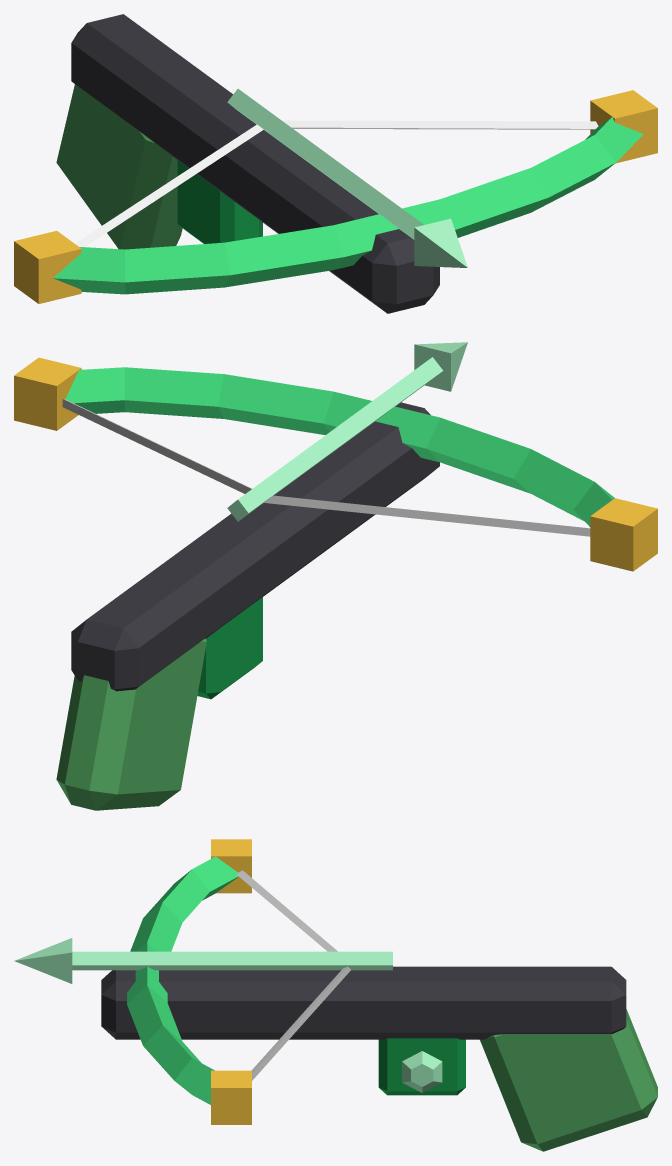
File: EmeraldCrossbow.fbx
3 views of the same model, one above another, from view 1: azimuth 30°, elevation 25°; view 2: azimuth 150°, elevation 25°; view 3: azimuth 270°, elevation 25° (orthographic). The views are drawn at different scales.
Visible parts, largest first — view 1: EmeraldCrossbow; view 2: EmeraldCrossbow; view 3: EmeraldCrossbow.
Boxes of the visible parts, x1,y1,x2,y2 form: EmeraldCrossbow: [14, 14, 657, 313]; EmeraldCrossbow: [14, 342, 657, 810]; EmeraldCrossbow: [14, 839, 657, 1151].
Size of the model in its own units: 2.02 by 0.7634 by 2.21.
1 material, 1 textured.
